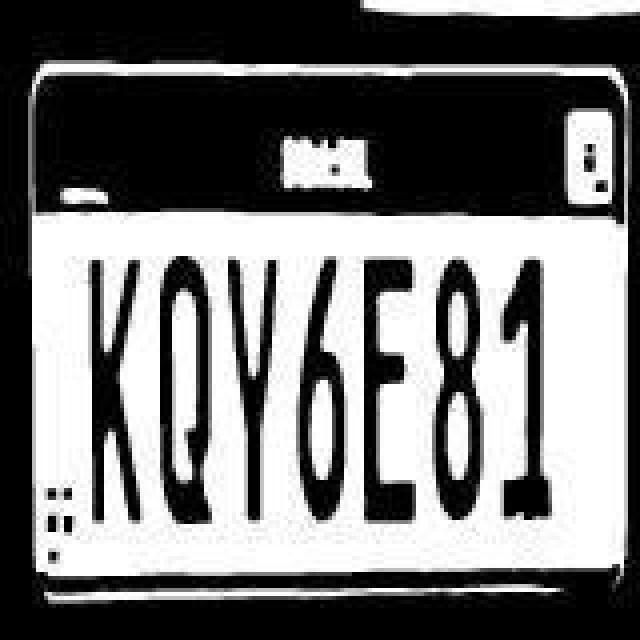1: (500, 256, 556, 528)
6: (292, 258, 348, 526)
8: (432, 252, 488, 524)
E: (358, 256, 418, 528)
K: (84, 252, 148, 532)
Q: (158, 254, 218, 530)
Y: (228, 258, 284, 526)
